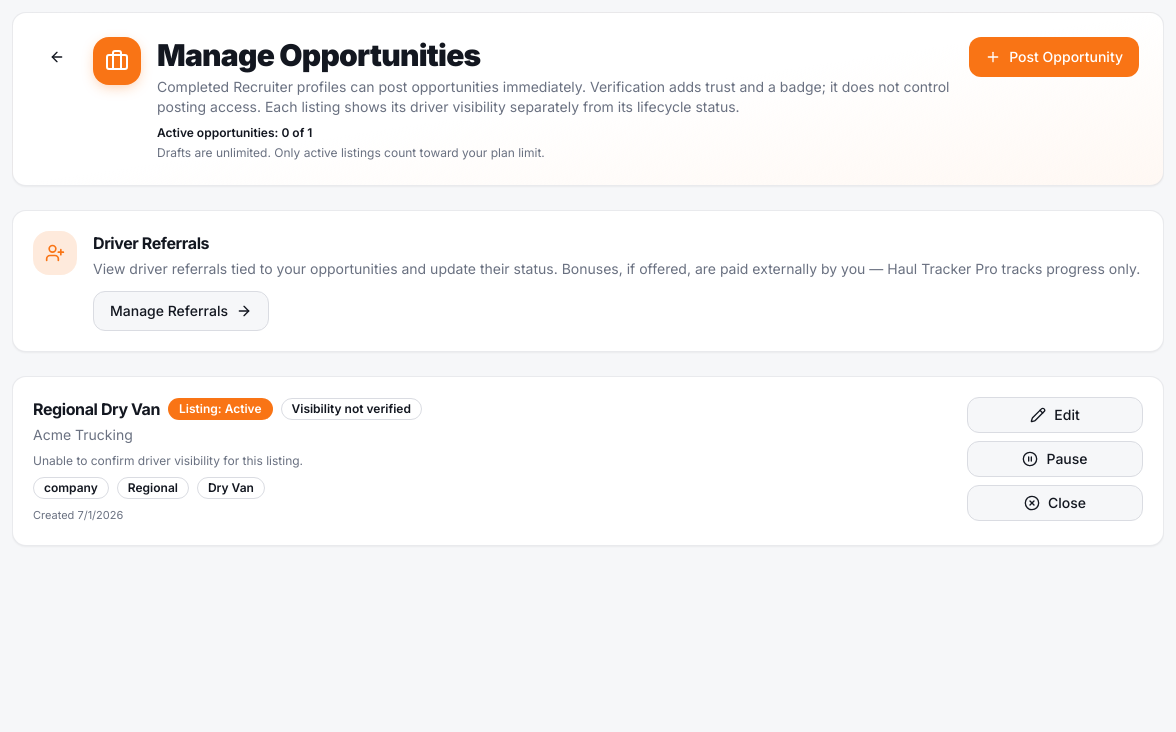
Scenario: Phase 1L-DE1R2R1 — manager ↔ canonical form › opens the canonical form from the top CTA
Click the button with test id "post-opportunity-cta".
click(1054, 57)  # box [969, 37, 1139, 77]
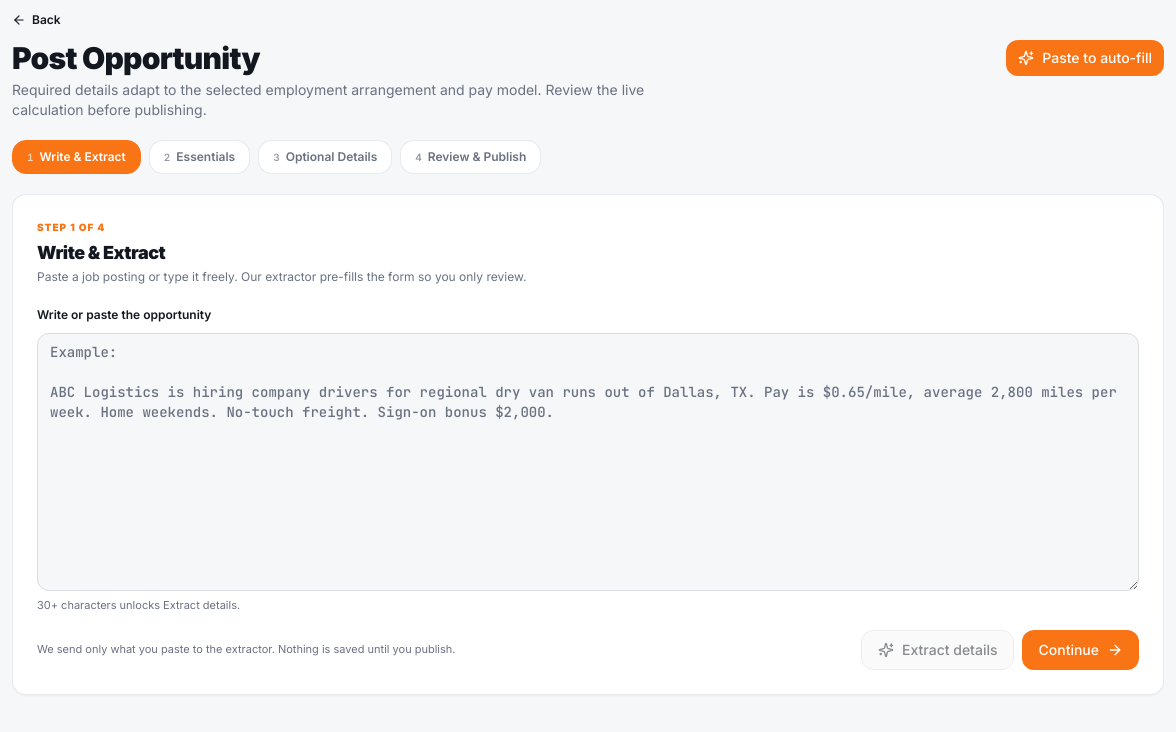
Expected: the heading "Post Opportunity" is shown, [12, 40, 260, 76]
